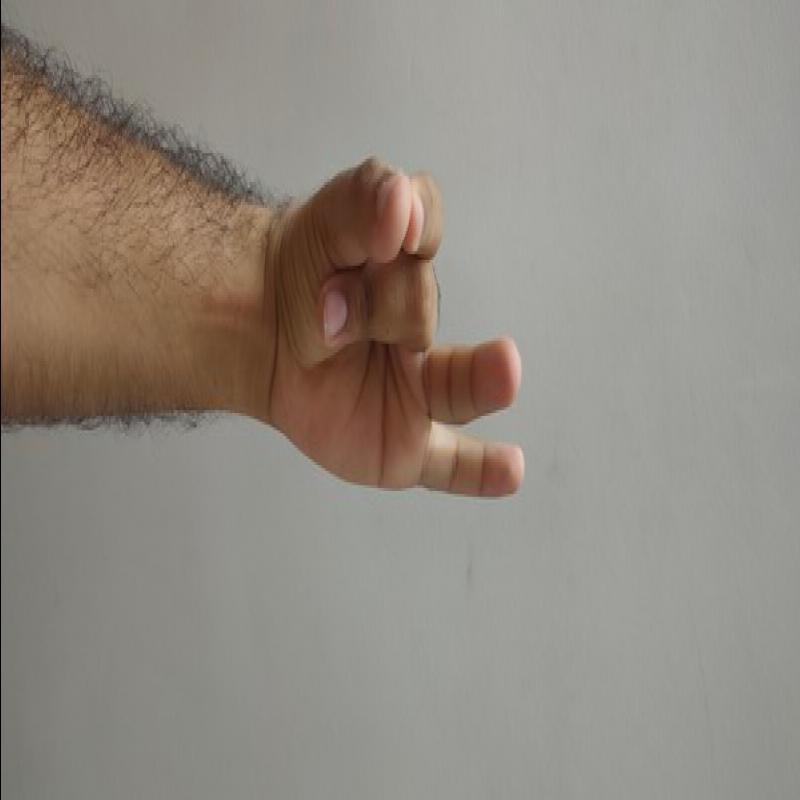Katakam: (261, 147, 535, 536)
